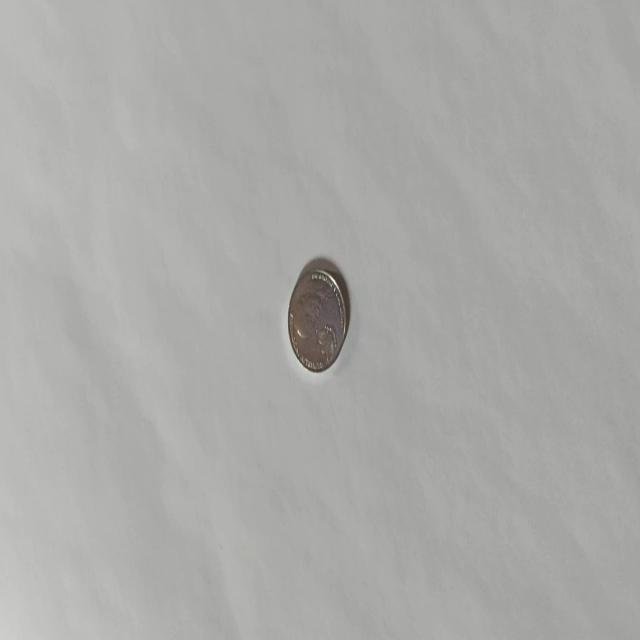lima ratus rupiah: (286, 262, 348, 374)
